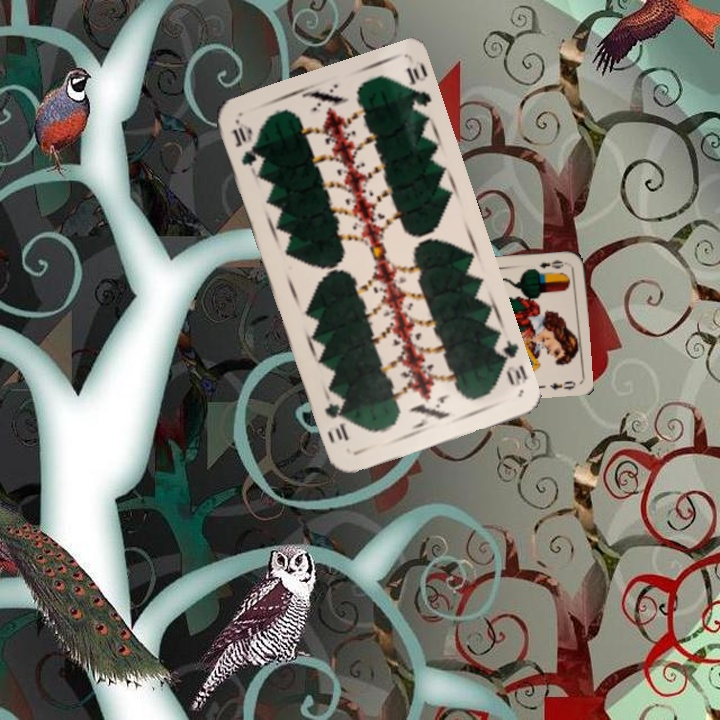EO: (536, 256, 570, 271)
G10: (490, 336, 530, 390), (228, 118, 260, 169)
